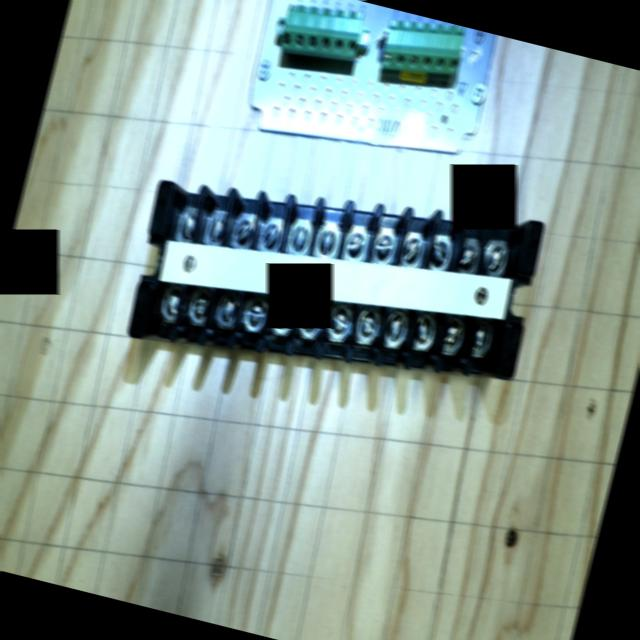Flathead_Block: (127, 180, 543, 378)
Terminal_1: (379, 19, 464, 74), (280, 2, 363, 57)
